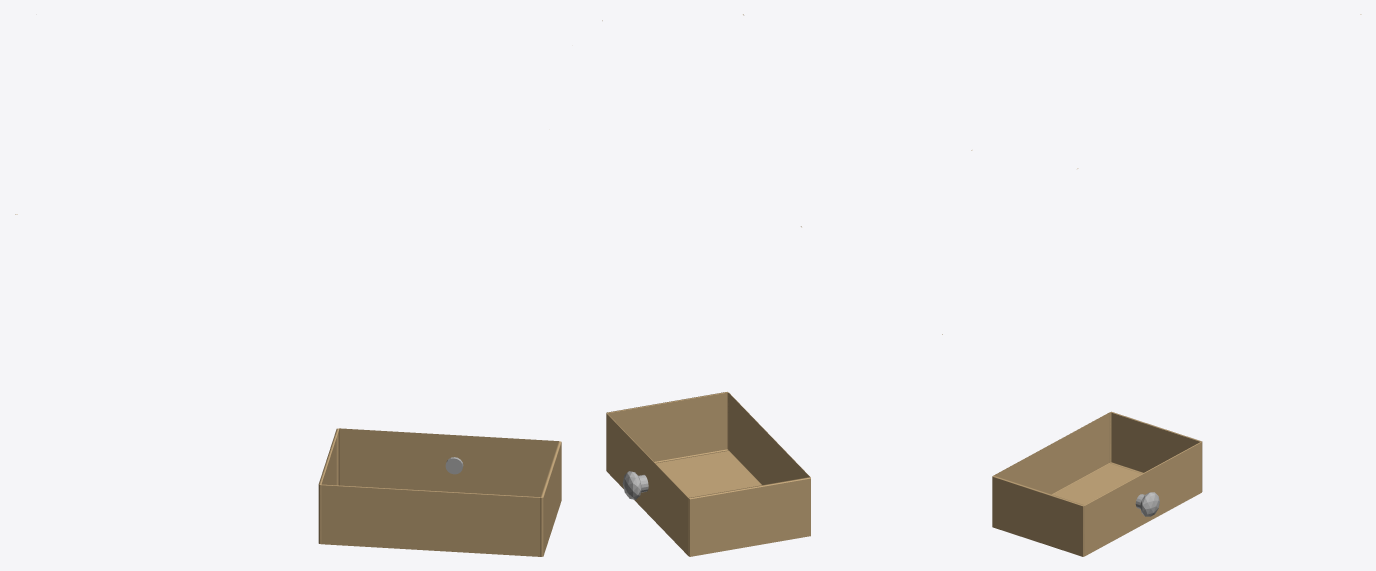
Rendered from drawer2.glb.
3 renders of one model, left to right at view 1: azimuth 30°, elevation 25°; view 2: azimuth 150°, elevation 25°; view 3: azimuth 270°, elevation 25°, orthographic. The views are drawn at different scales.
Parts seen in each view (by area): view 1: tiroire.2; view 2: tiroire.2; view 3: tiroire.2.
Boxes of the visible parts, x1,y1,x2,y2 form: tiroire.2: (15, 214, 561, 556); tiroire.2: (602, 14, 942, 556); tiroire.2: (971, 14, 1361, 556).
Bounding box in the file's own units: 0.2041 × 0.1963 × 0.1774.
